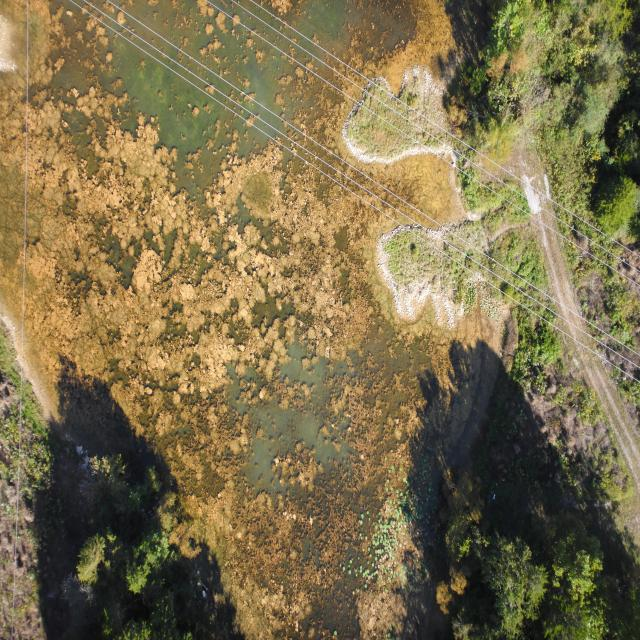Area of Interest: (464, 9, 637, 228), (456, 525, 604, 629), (85, 521, 175, 627)
